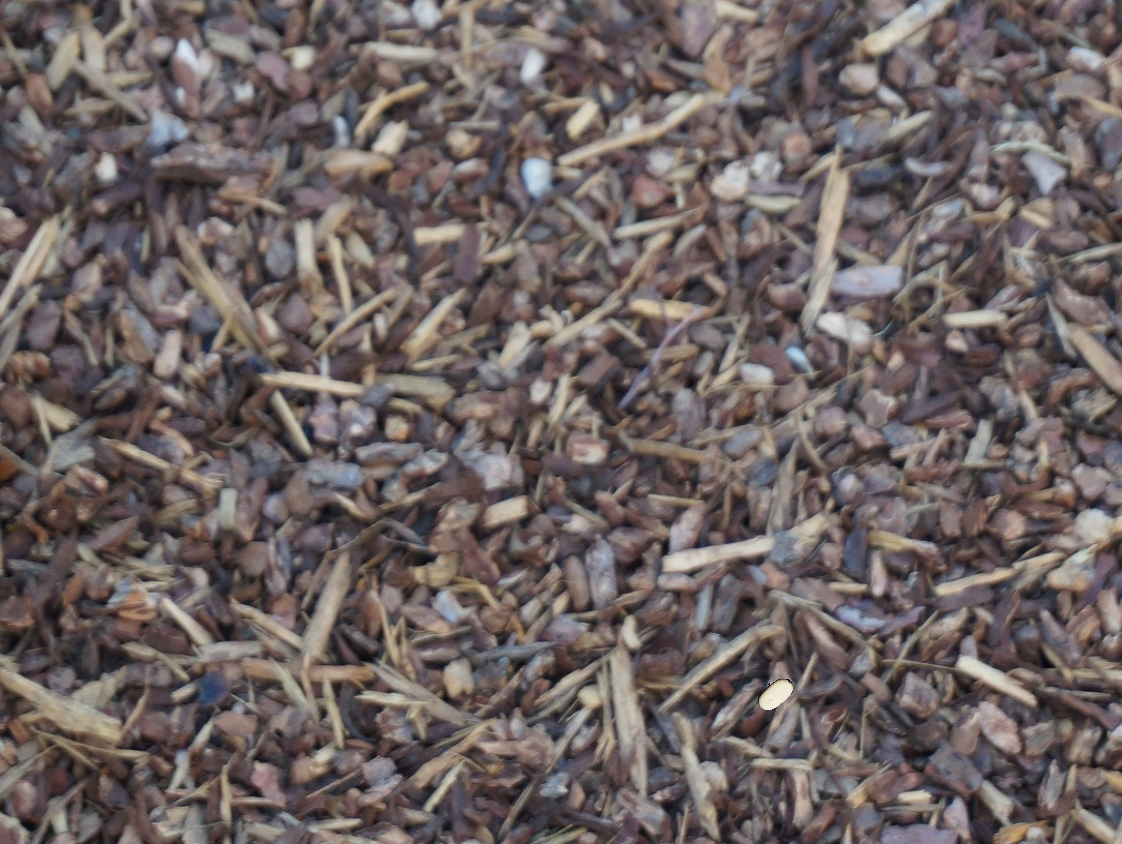test: (757, 675, 793, 710)
